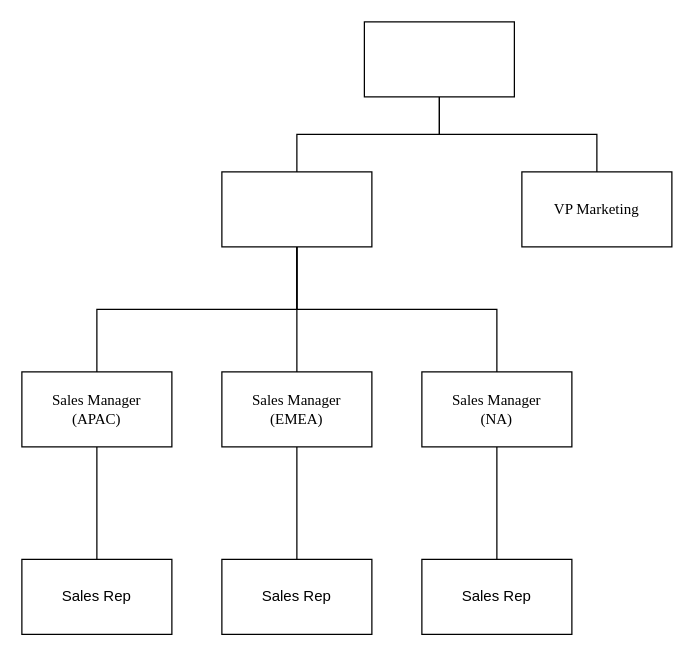
This 694x656 diagram has some shape labels left out. The shapes that lost their labels are listed below. From the top down, each one's centre as x and y in pixels, then its label:
At point 438,59: "President".
At point 296,209: "VP Sales".
